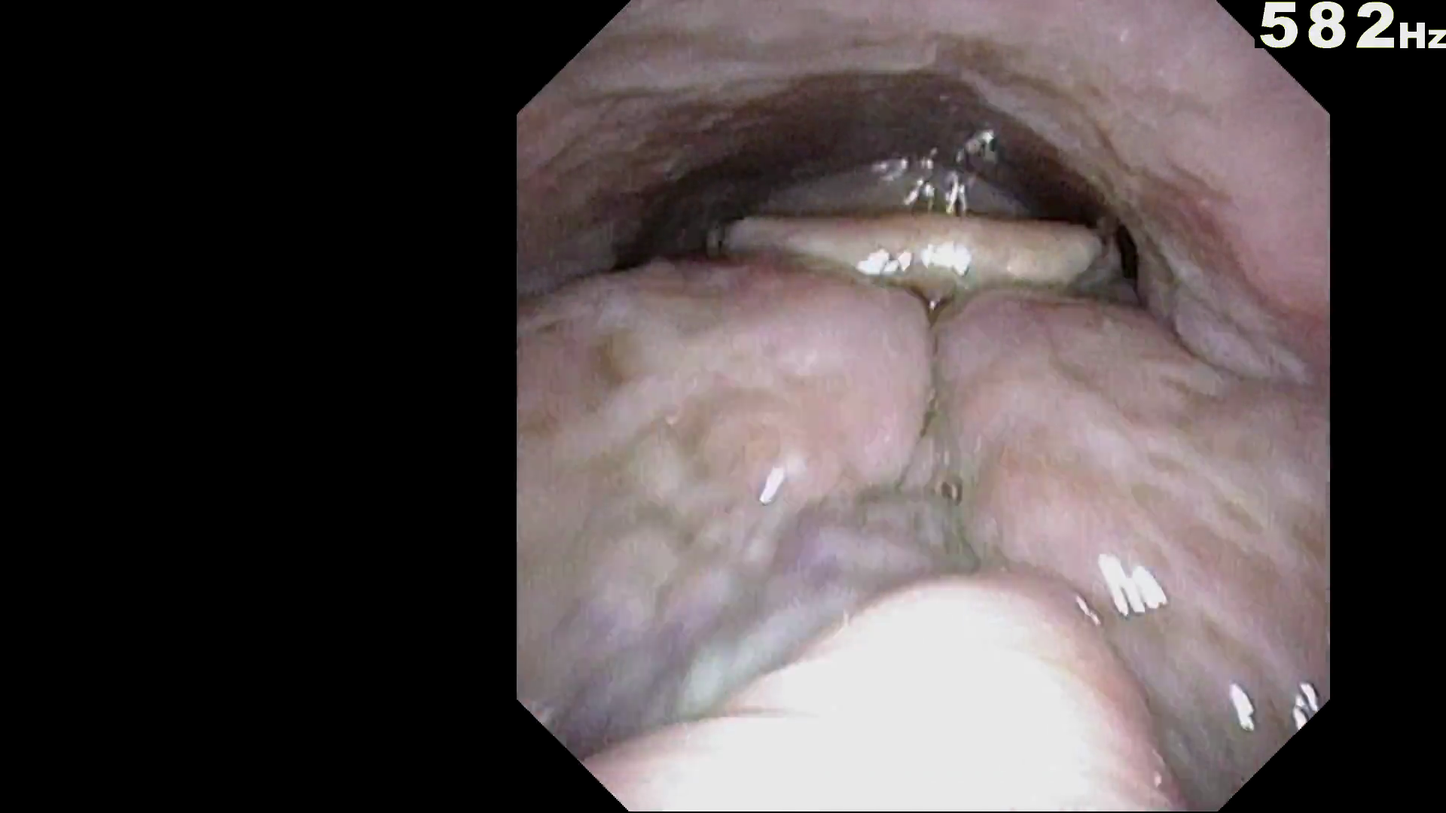epiglottis: (703, 216, 1125, 329)
trachea: (880, 330, 991, 453)
